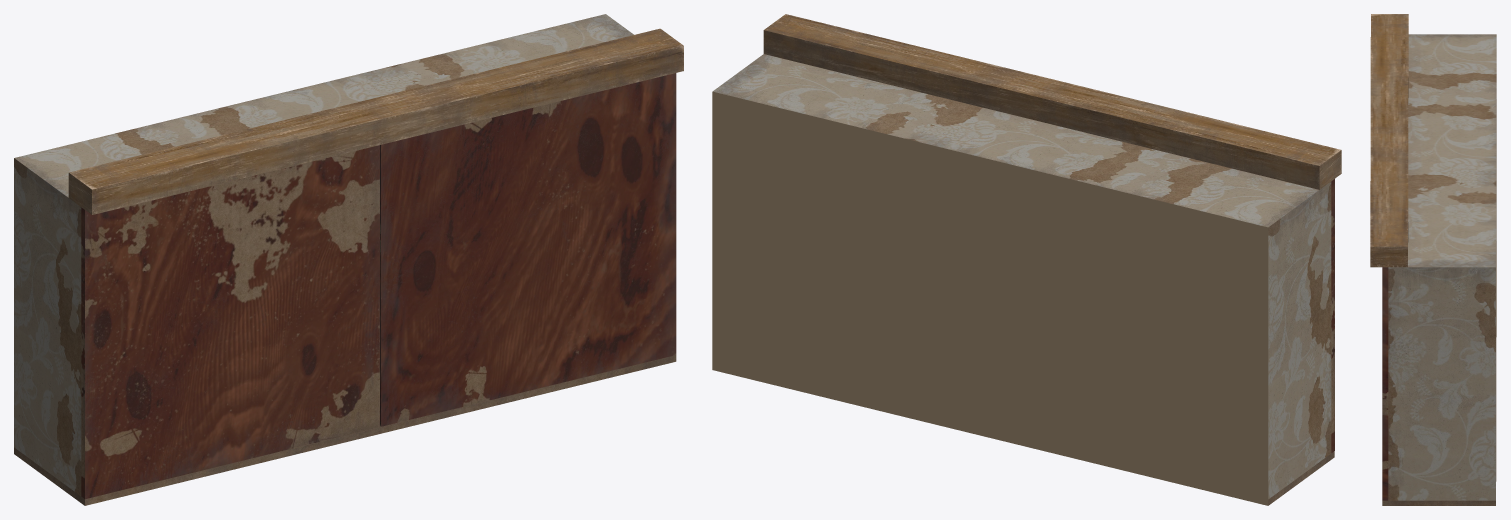
File: cabinet.glb
3 renders of one model, left to right at view 1: azimuth 30°, elevation 25°; view 2: azimuth 150°, elevation 25°; view 3: azimuth 270°, elevation 25°, orthographic. The views are drawn at different scales.
Parts seen in each view (by area): view 1: door1_lp, door2_lp, back_lp, wood_brick_lp, Cube011; view 2: Plane, back_lp, wood_brick_lp, door1_lp; view 3: back_lp, wood_brick_lp, door2_lp, Cube011, Plane.
Boxes of the visible parts, x1,y1,x2,y2 form: door1_lp: [81, 145, 379, 499]; door2_lp: [380, 73, 676, 426]; back_lp: [14, 14, 633, 495]; wood_brick_lp: [68, 28, 683, 214]; Cube011: [14, 355, 676, 505]; Plane: [712, 91, 1268, 505]; back_lp: [713, 54, 1331, 499]; wood_brick_lp: [763, 14, 1341, 189]; door1_lp: [1331, 179, 1334, 452]; back_lp: [1388, 34, 1496, 500]; wood_brick_lp: [1370, 14, 1408, 267]; door2_lp: [1382, 267, 1388, 500]; Cube011: [1382, 500, 1495, 505]; Plane: [1496, 99, 1496, 481].
Size of the model in its own units: 1.46 by 0.7597 by 0.3354.
Materials: 2 (1 with a texture image).
